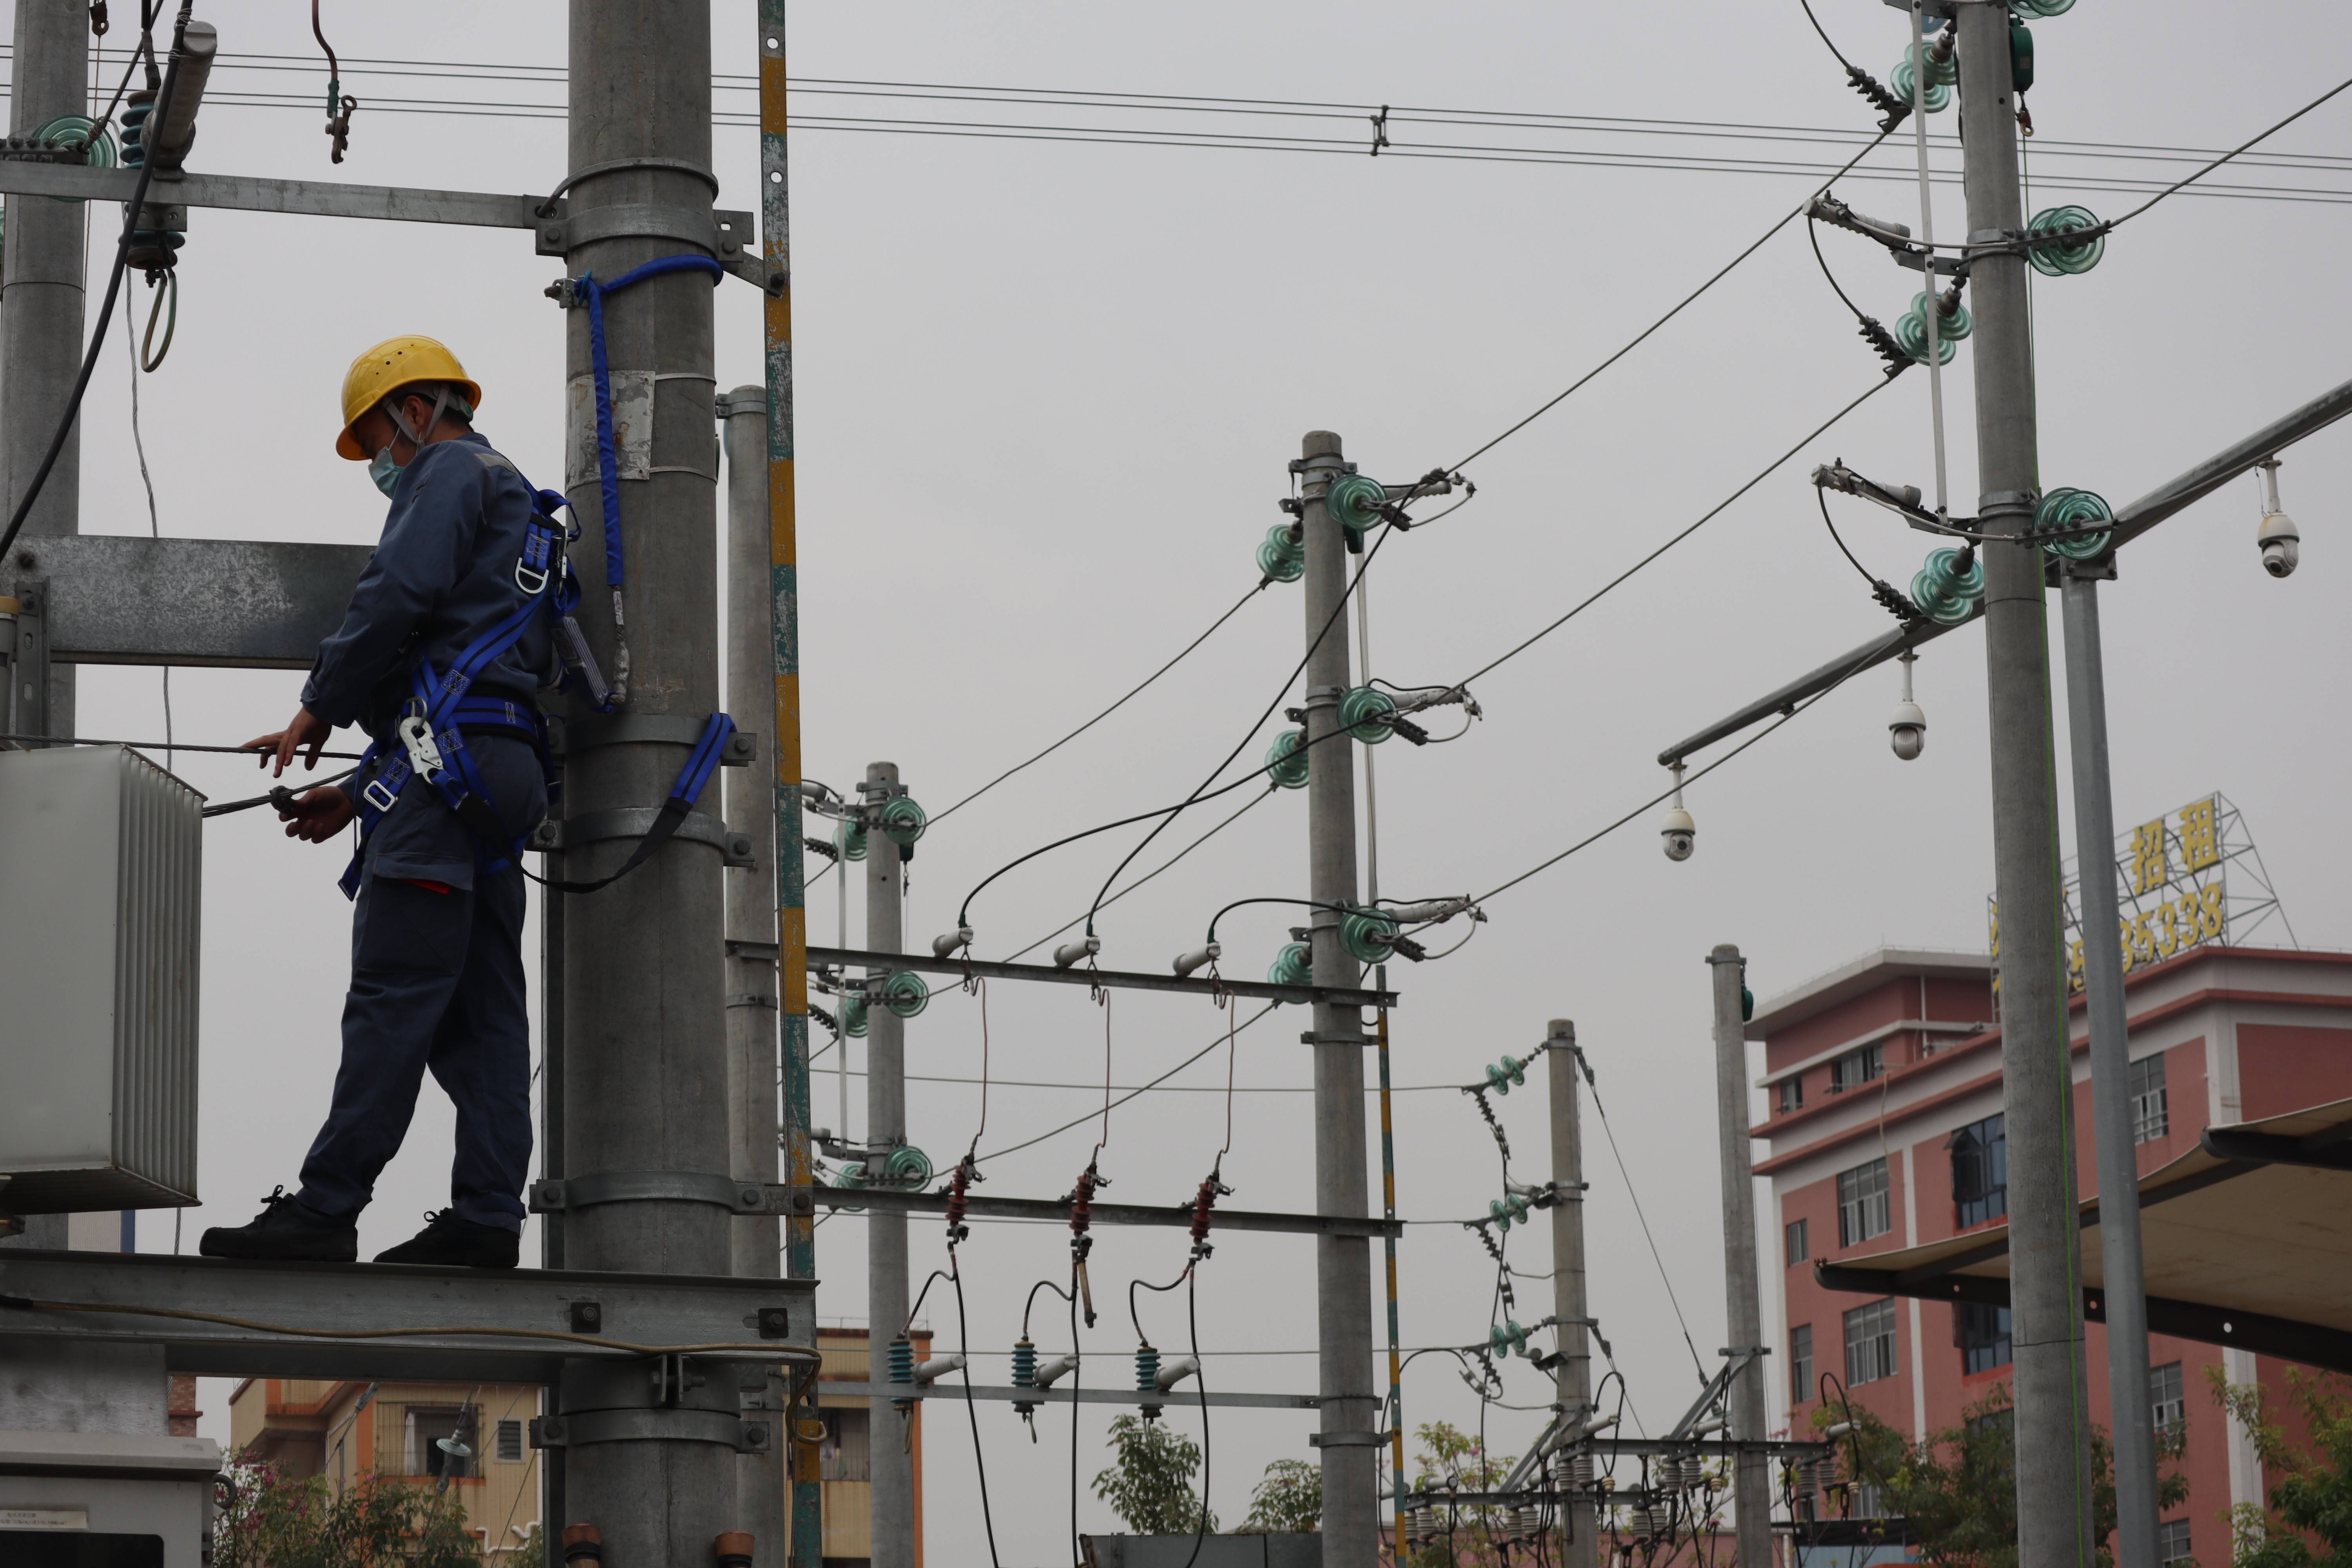downsuit: (308, 742, 555, 1218)
upsuit: (306, 436, 581, 735)
